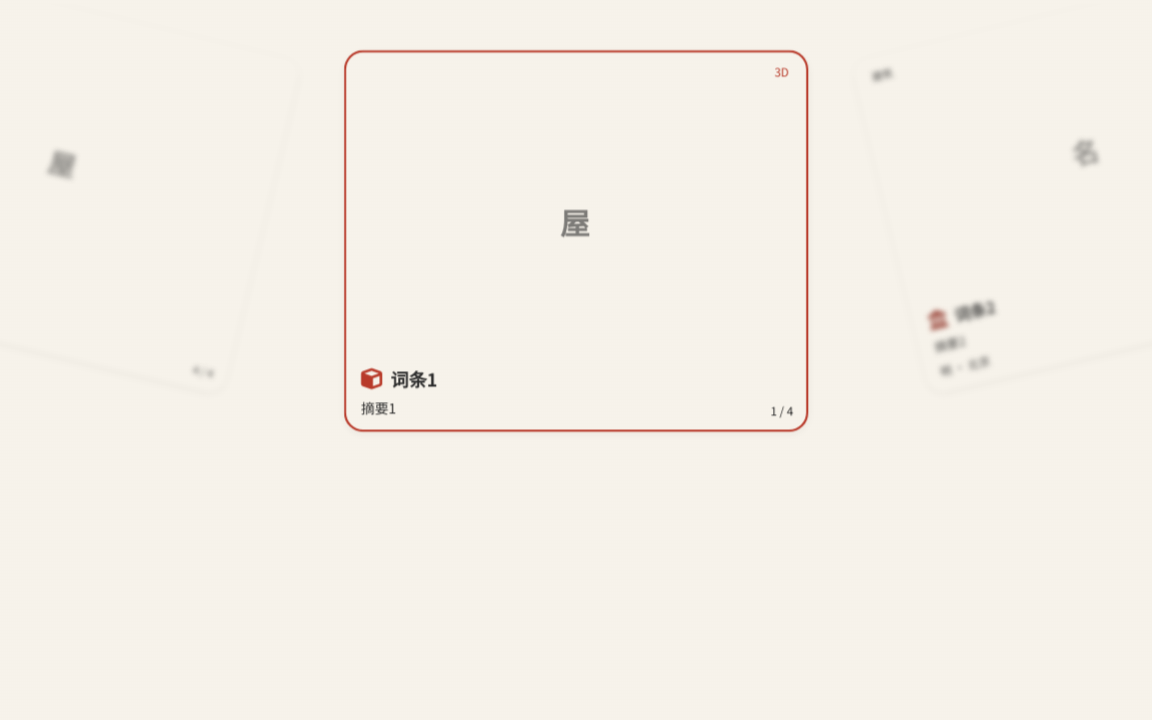
Scenario: CardSwap 组件 › T-DECK-04 二次点击同一卡片打开预览，且 aria-current 始终唯一
Click the element showing "3D 屋 词条1 摘要1 1 / 4" at (576, 241), box [344, 50, 808, 432]
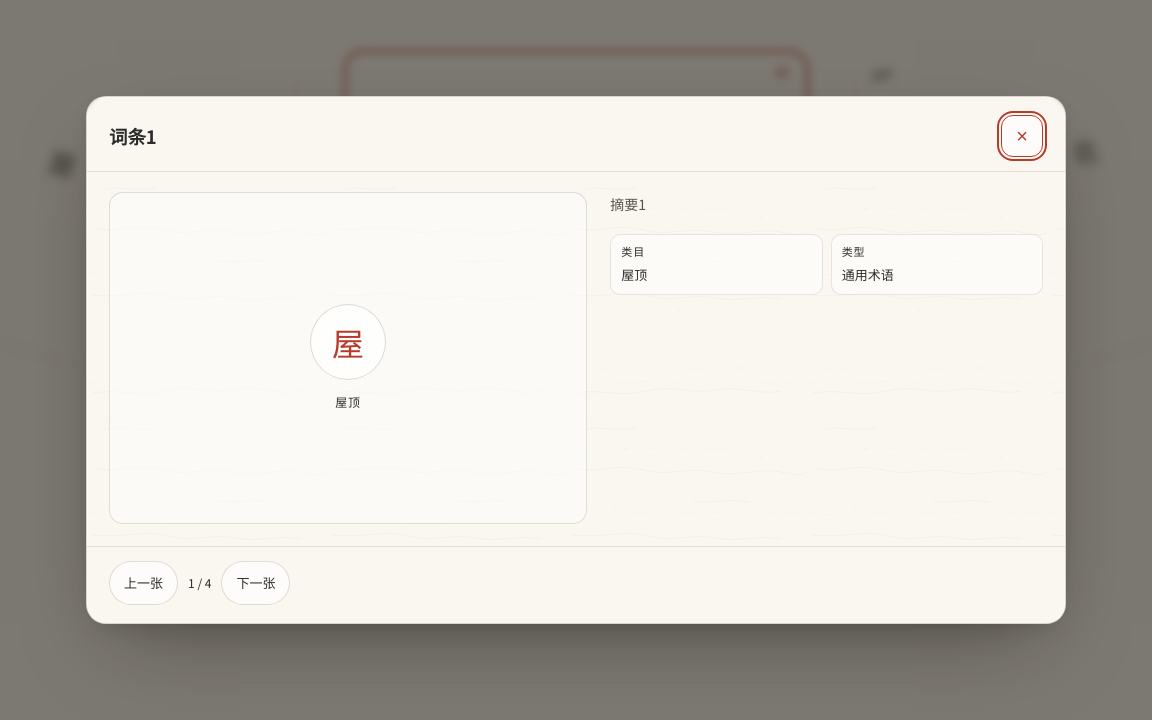
Check: the dialog with class "enc-preview-dialog" is shown
Press Escape
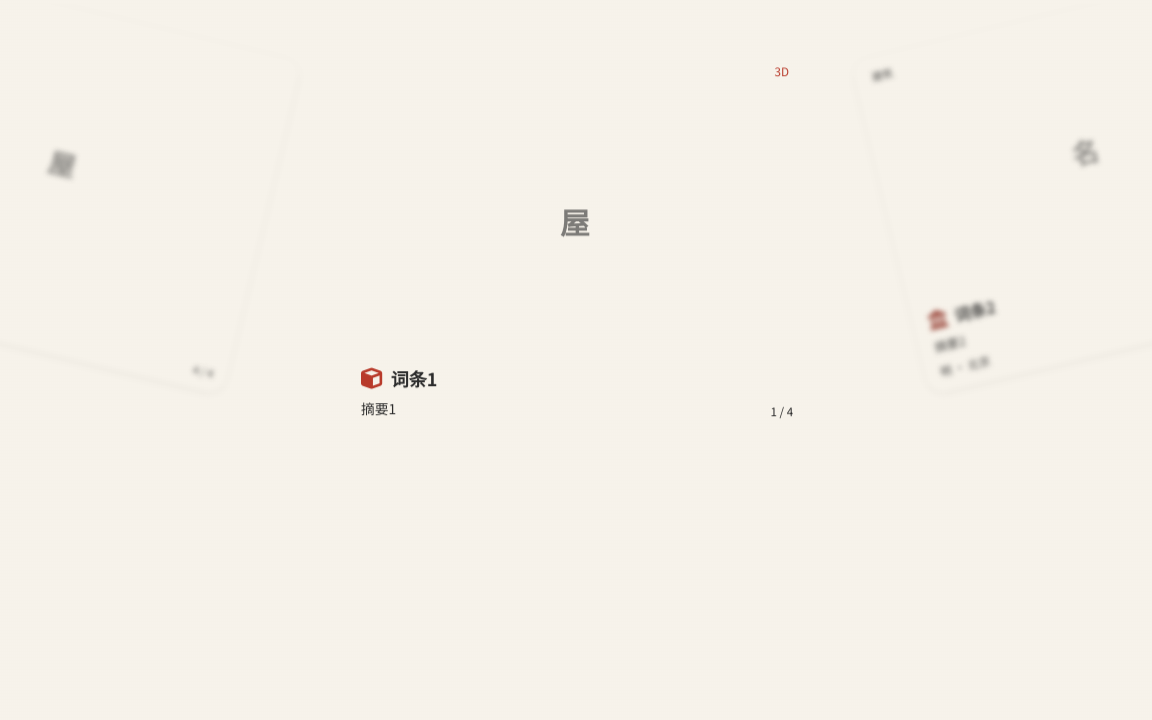
Check: the dialog with class "enc-preview-dialog" is gone
